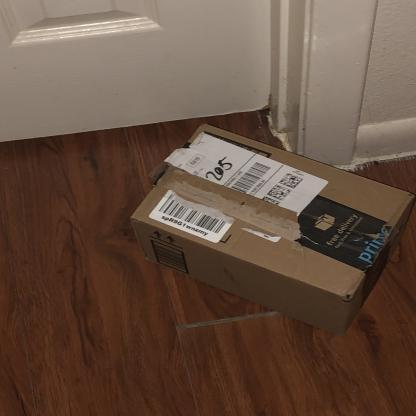package: (130, 122, 416, 339)
